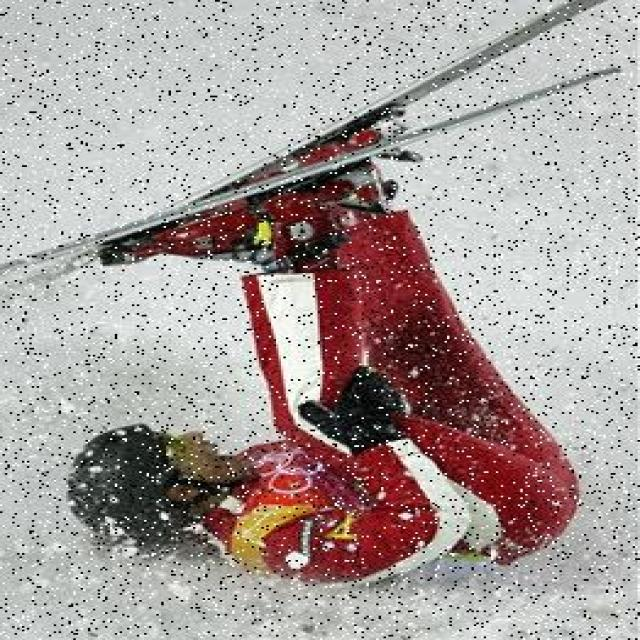fall: (83, 221, 569, 581)
